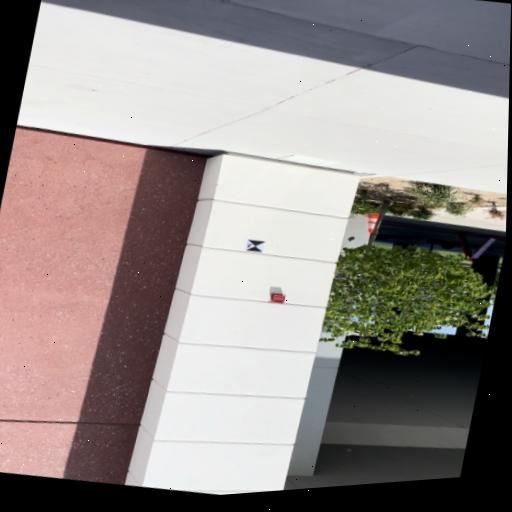target2: (244, 237, 265, 253)
